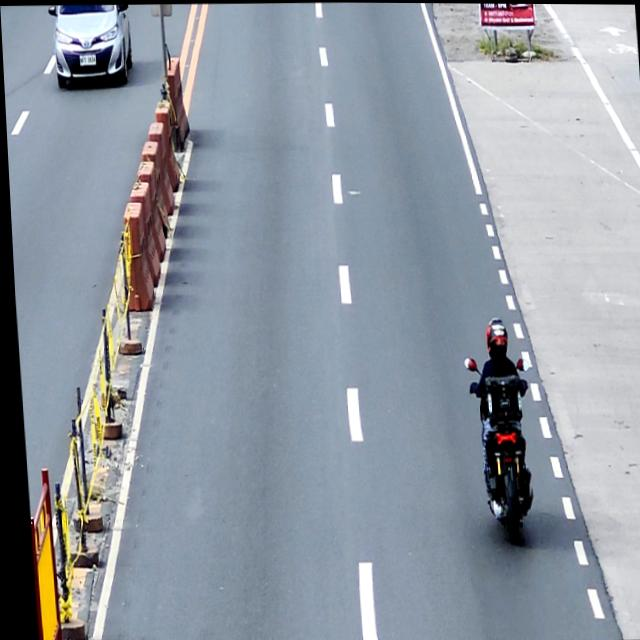Car: (47, 4, 134, 91)
License-Plate: (78, 54, 96, 66)
Motorcycle: (457, 352, 537, 548)
